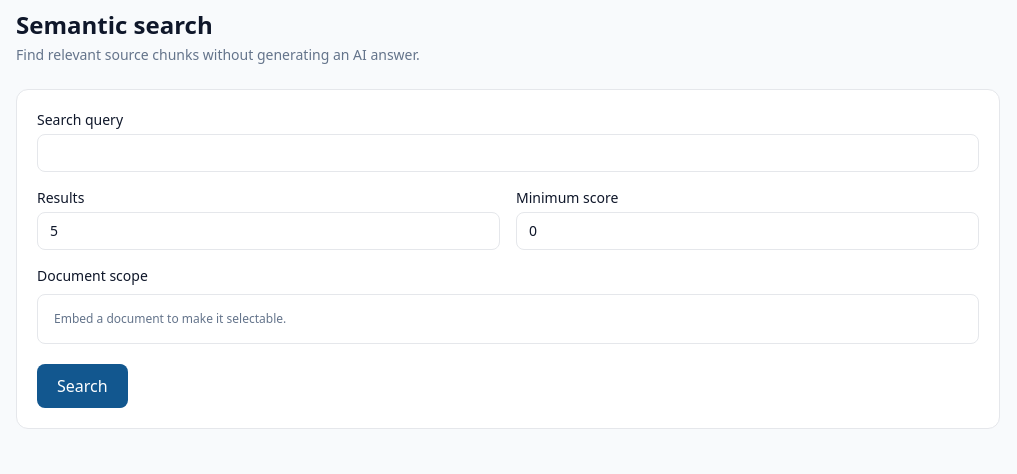
it: validates top k and score threshold before searching
Type "query" into the field labelled "Search query" at (508, 153), box [37,134,979,172]
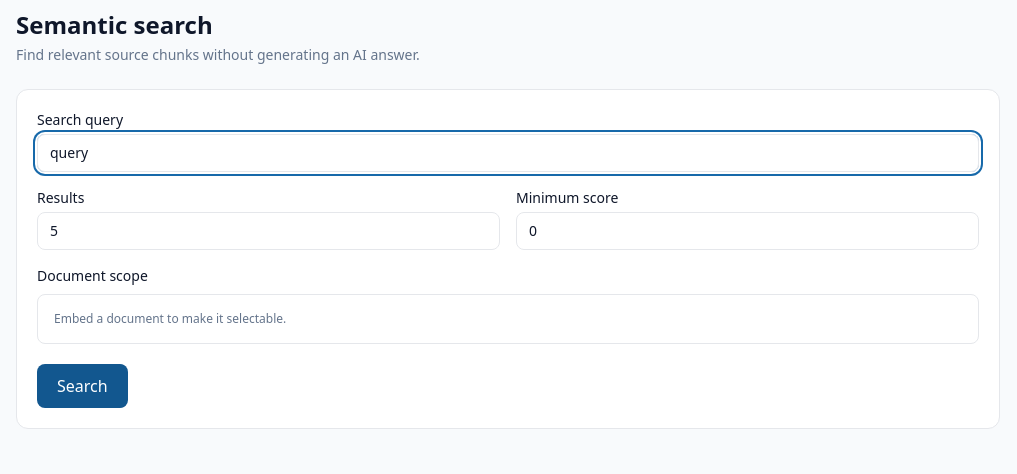
Replace the text in the number field named "Top K results" with "99" at (268, 231), box [37,212,500,250]
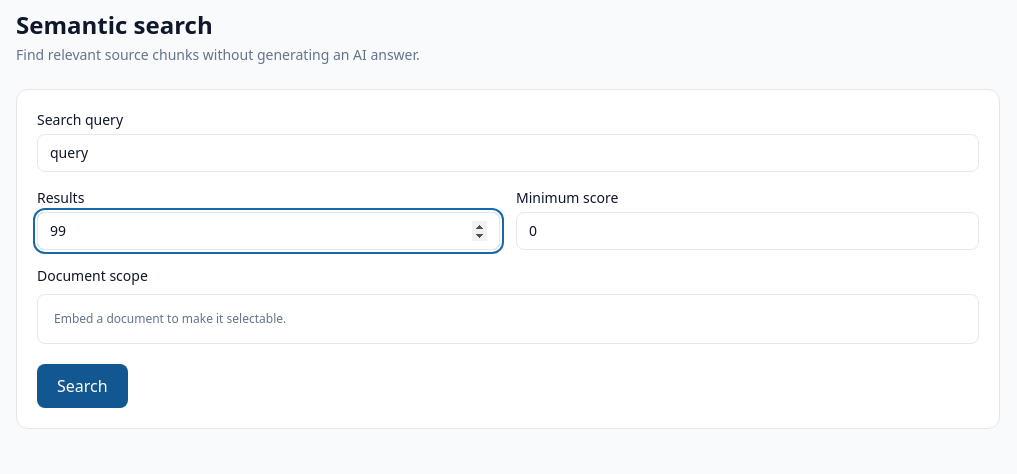
Replace the text in the number field named "Score threshold" with "2" at (748, 231), box [516,212,979,250]
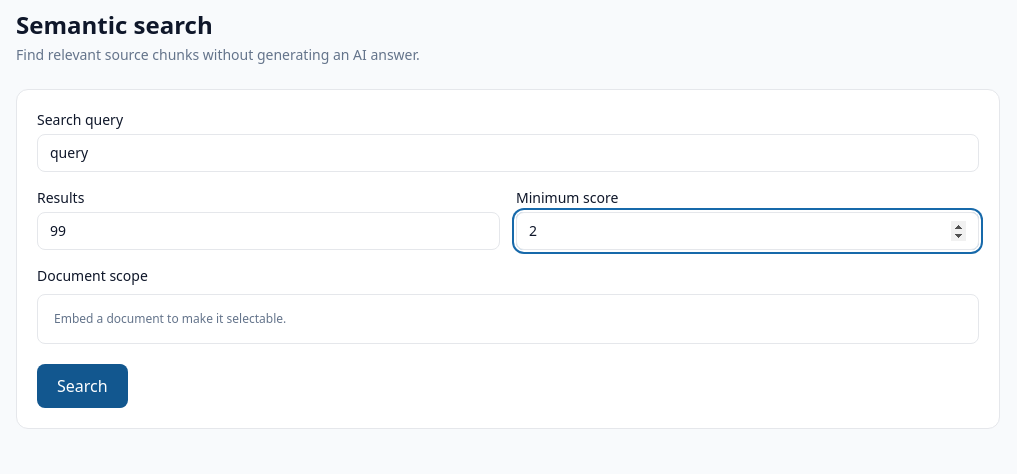
Click the button "Search" at (82, 386), box [37,364,128,408]
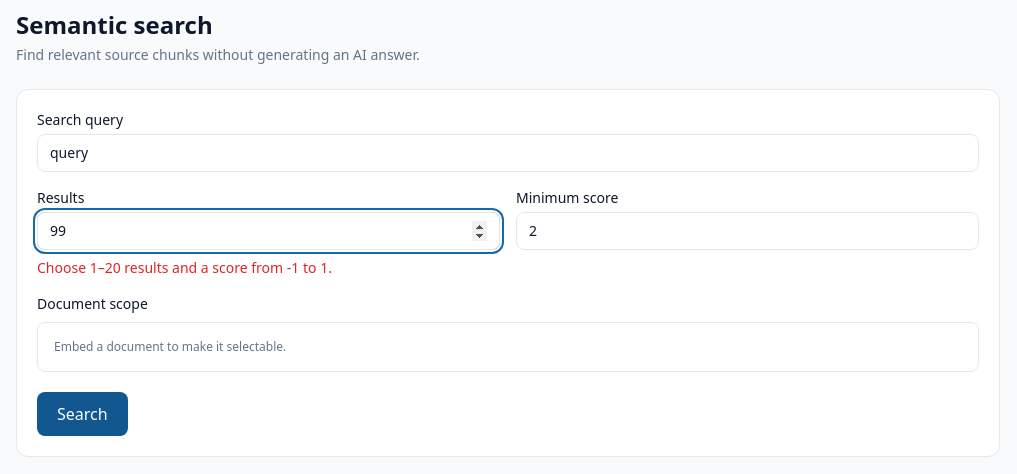
Check: the text "Choose 1–20 results and a score from -1 to 1." is shown, box [37,258,332,277]
